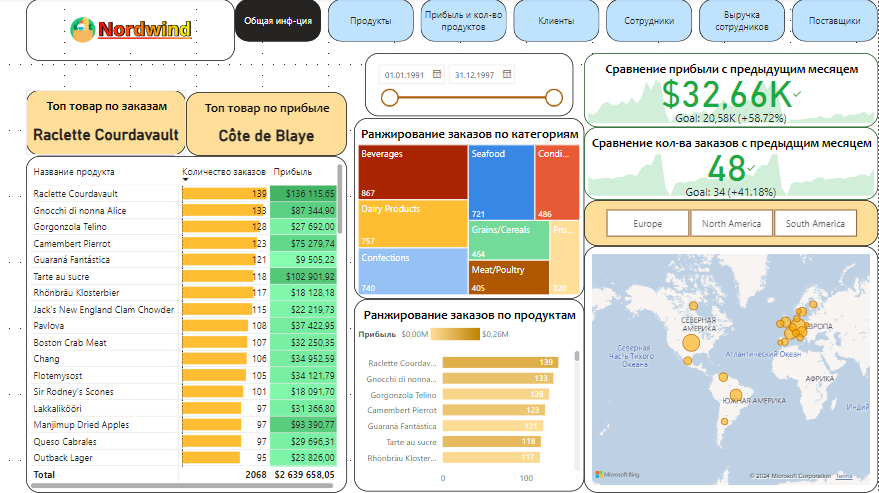

This screenshot's page, from the dashboard's own definition file:
{"tool":"powerbi","page":{"name":"Общая инф-ция","canvas":[1280,720],"ordinal":0},"visuals":[{"type":"image","box":[40.7,1.5,304,90.2],"z":0},{"type":"treemap","title":"Ранжирование заказов по категориям","fields":{"Group":["public categories.category_name"],"Values":["orders_details_all.Order_Cases_Dist"]},"box":[517.8,174.5,334.5,263.3],"z":1000},{"type":"barChart","title":"Ранжирование заказов по продуктам","fields":{"Y":["orders_details_all.Order_Cases_Dist"],"Category":["public products.product_name"]},"box":[517.8,437.8,334.5,280],"z":2000},{"type":"kpi","title":"Сравнение прибыли с предыдущим месяцем","fields":{"Indicator":["orders_details_all.Total_Profit"],"Goal":["orders_details_all.Previous_Month_Profit"],"TrendLine":["Calendar.Start_Month"]},"box":[852.4,80,427.6,107.6],"z":3000},{"type":"kpi","title":"Сравнение кол-ва заказов с предыдщим месяцем","fields":{"TrendLine":["Calendar.Start_Month"],"Indicator":["orders_details_all.Order_Cases_Dist"],"Goal":["orders_details_all.Previous_Month_Orders"]},"box":[852.4,187.6,427.6,106.2],"z":4000},{"type":"slicer","fields":{"Values":["Calendar.Date"]},"box":[533.8,80,302.5,91.6],"z":5000},{"type":"pivotTable","fields":{"Rows":["public products.product_name"],"Values":["orders_details_all.Order_Cases_Dist","orders_details_all.Total_Profit"]},"box":[40,230,466.7,490],"z":6000},{"type":"card","title":"Топ товар по заказам","fields":{"Values":["Min(public products.product_name)"]},"box":[40.7,133.8,232.7,94.5],"z":7000},{"type":"card","title":"Топ товар по прибыле","fields":{"Values":["Min(public products.product_name)"]},"box":[273.5,136.7,234.2,93.1],"z":8000},{"type":"map","fields":{"Size":["orders_details_all.Total_Profit"],"Category":["orders_all.ship_country"]},"box":[852.4,360.7,427.6,359.3],"z":9000},{"type":"slicer","fields":{"Values":["orders_all.Continent"]},"box":[852.4,293.8,427.6,66.9],"z":10000},{"type":"pageNavigator","box":[344.7,1.5,935.3,62.5],"z":11000}]}

Visuals, with their boxes in screenshot pixels (x1, y1, x2, y2), scaled from the page's 1280x720 canvas onto the 879x493 screenshot:
image: l=28, t=1, r=237, b=63
"Ранжирование заказов по категориям" treemap: l=356, t=119, r=585, b=300
"Ранжирование заказов по продуктам" barChart: l=356, t=300, r=585, b=491
"Сравнение прибыли с предыдущим месяцем" kpi: l=585, t=55, r=878, b=128
"Сравнение кол-ва заказов с предыдщим месяцем" kpi: l=585, t=128, r=878, b=201
slicer - Calendar.Date: l=367, t=55, r=574, b=117
pivotTable - public products.product_name x orders_details_all.Order_Cases_Dist: l=27, t=157, r=348, b=492
"Топ товар по заказам" card: l=28, t=92, r=188, b=156
"Топ товар по прибыле" card: l=188, t=94, r=349, b=157
map - orders_details_all.Total_Profit x orders_all.ship_country: l=585, t=247, r=878, b=492
slicer - orders_all.Continent: l=585, t=201, r=878, b=247
pageNavigator: l=237, t=1, r=878, b=44
